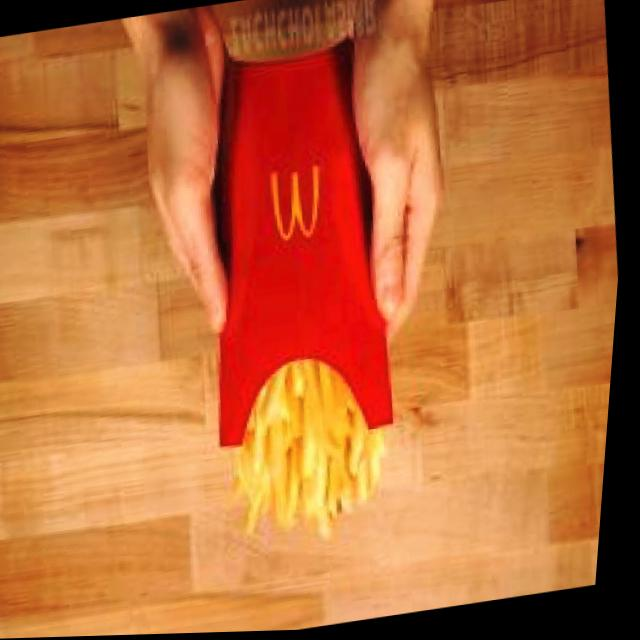french fries: (212, 347, 404, 553)
